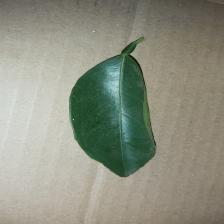healthy: (42, 51, 176, 182)
